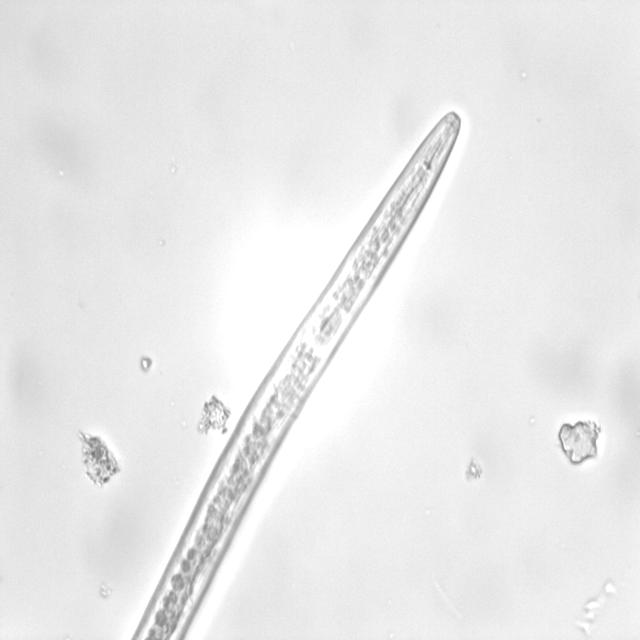Meloidogyne: (105, 87, 465, 640)
